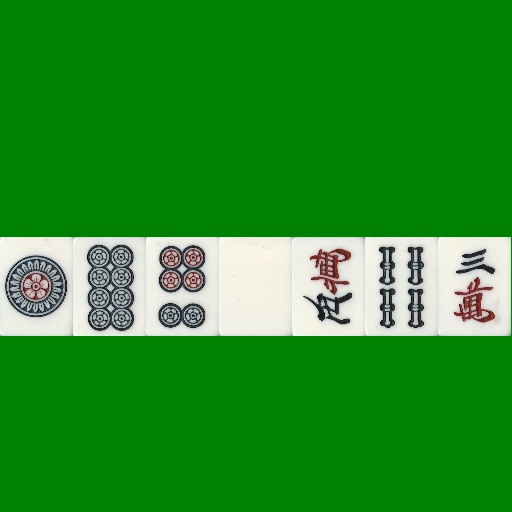1p: (0, 237, 73, 336)
3m: (438, 237, 511, 336)
4s: (365, 237, 438, 336)
5m: (292, 237, 365, 336)
6p: (146, 237, 219, 336)
8p: (73, 237, 146, 336)
white: (219, 237, 292, 336)
